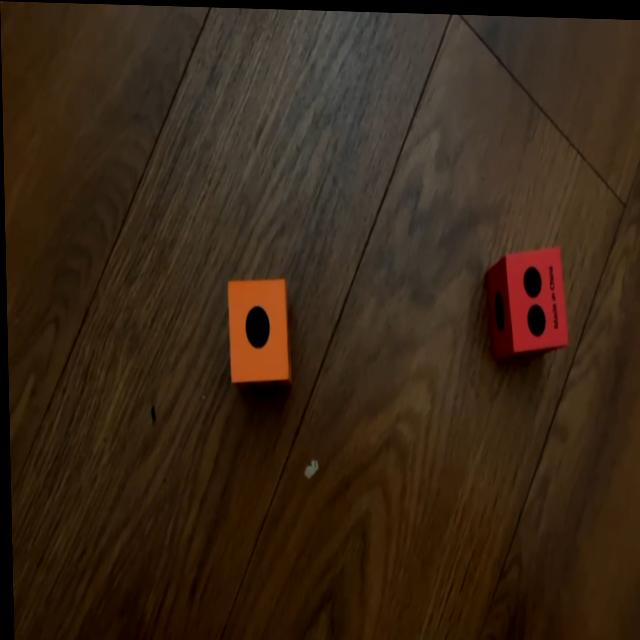cube: (485, 238, 569, 358)
